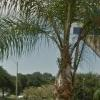Palm tree: (25, 3, 91, 92)
